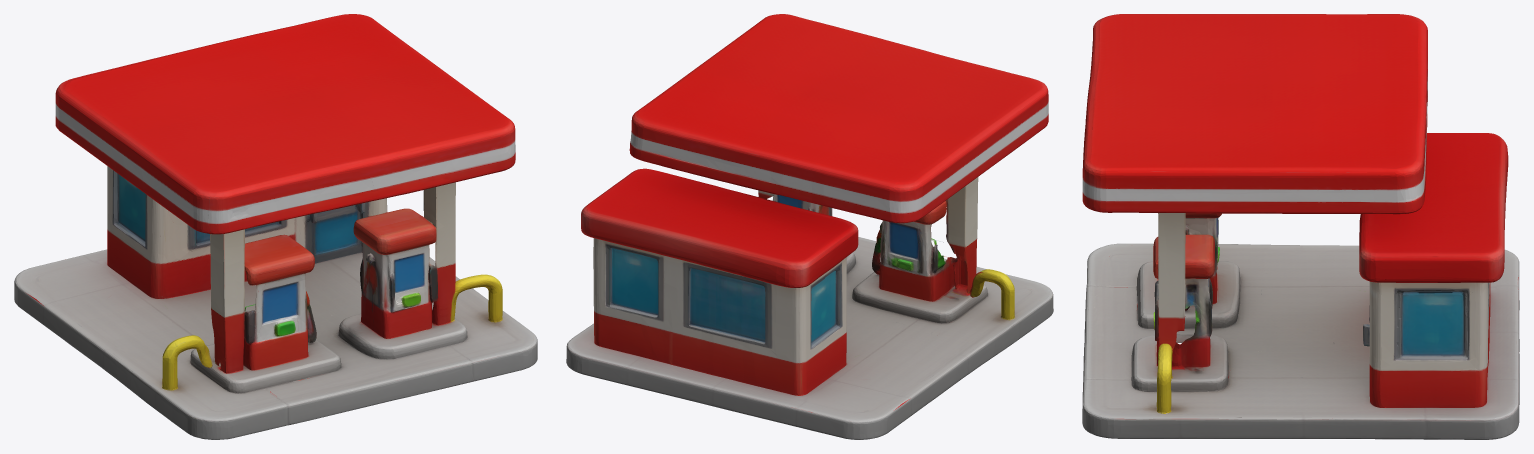
File: gas_station.glb
The picture shows the model from 3 angles, left to right: view 1: azimuth 30°, elevation 25°; view 2: azimuth 150°, elevation 25°; view 3: azimuth 270°, elevation 25°; orthographic projection. The views are drawn at different scales.
Visible parts, largest first — view 1: geometry_0; view 2: geometry_0; view 3: geometry_0.
Part boxes in pixels (x1,y1,x2,y2): geometry_0: (14, 14, 537, 439); geometry_0: (566, 14, 1053, 439); geometry_0: (1082, 14, 1519, 439).
Bounding box in the file's own units: 0.9448 × 0.6403 × 0.9874.
1 material, 1 textured.
